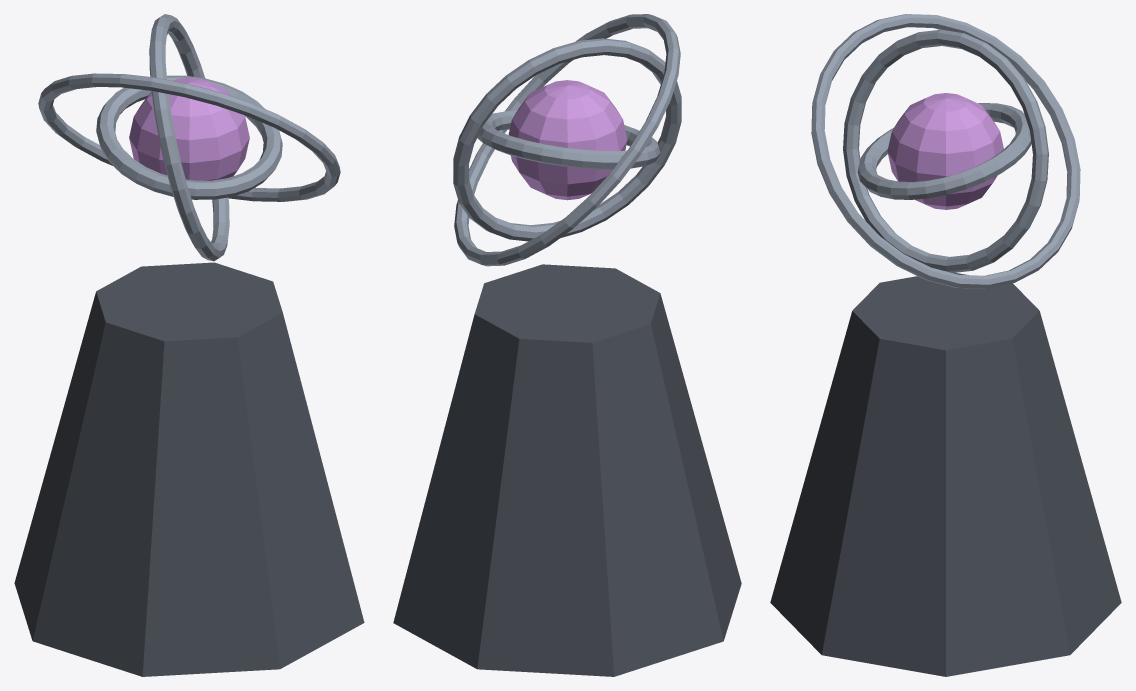
File: enhance_tower.obj
3 views of the same model, side by side, from view 1: azimuth 30°, elevation 25°; view 2: azimuth 150°, elevation 25°; view 3: azimuth 270°, elevation 25° (orthographic). The views are drawn at different scales.
Parts seen in each view (by area): view 1: EnhanceTower; view 2: EnhanceTower; view 3: EnhanceTower.
Boxes of the visible parts, x1,y1,x2,y2 form: EnhanceTower: (14,14,364,676); EnhanceTower: (393,14,741,676); EnhanceTower: (770,14,1121,676).
Size of the model in its own units: 0.6 by 1.05 by 0.6.
